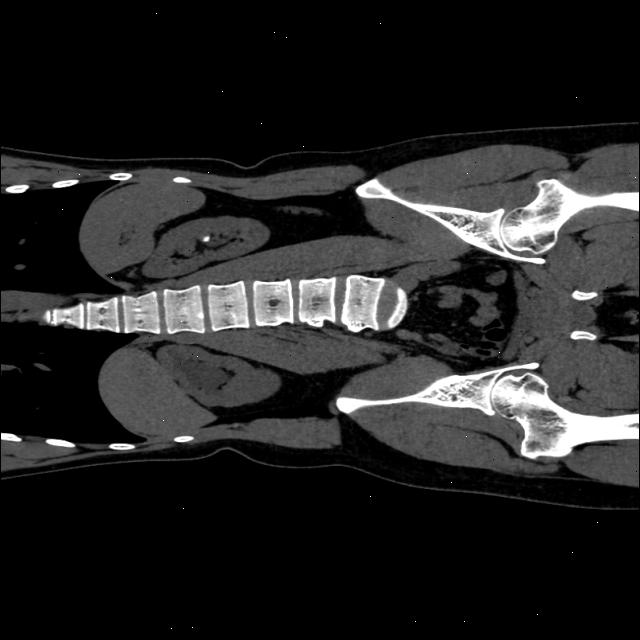kidneystone: (199, 234, 211, 241)
